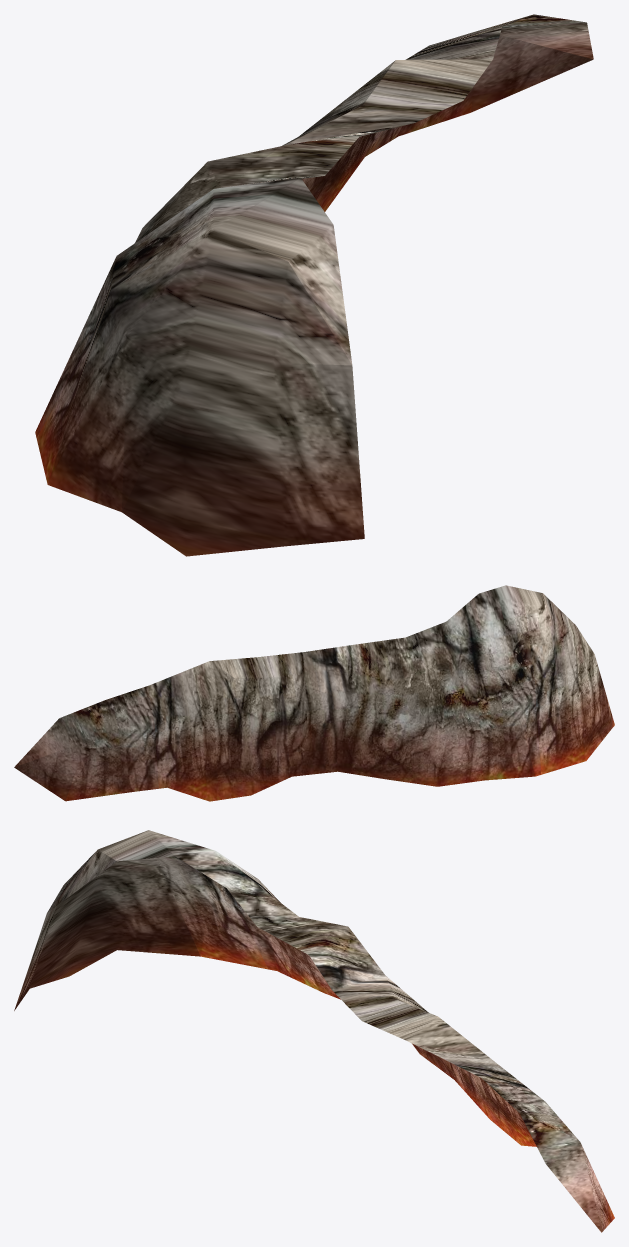
3 renders of one model, top to bottom at view 1: azimuth 30°, elevation 25°; view 2: azimuth 150°, elevation 25°; view 3: azimuth 270°, elevation 25°, orthographic. The views are drawn at different scales.
Visible parts, largest first — view 1: Plane11; view 2: Plane11; view 3: Plane11.
Boxes of the visible parts, bbox=[...] form: Plane11: bbox=[35, 14, 593, 556]; Plane11: bbox=[14, 585, 614, 801]; Plane11: bbox=[14, 830, 614, 1232].
Bounding box in the file's own units: 1230 × 412 × 1130.
